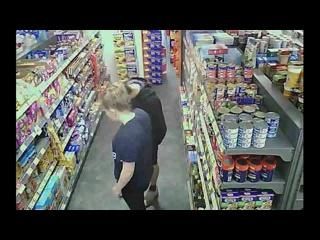Normal: (98, 81, 156, 210), (126, 78, 168, 209)
